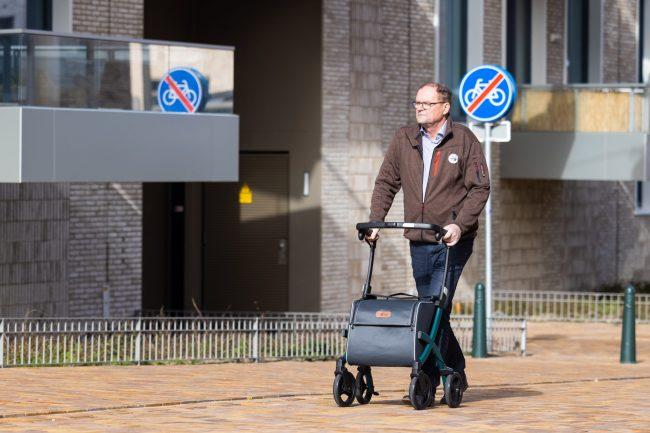walking_frame: (333, 83, 489, 409)
